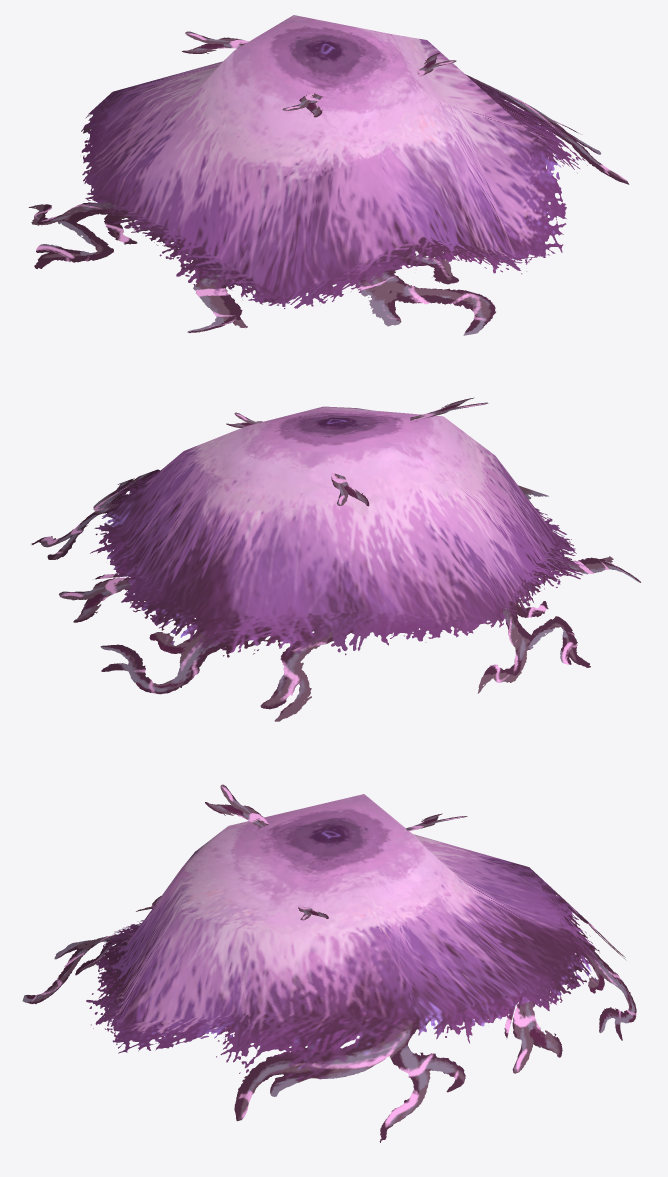
The model's file is bush1.fbx.
The picture shows the model from 3 angles, top to bottom: view 1: azimuth 30°, elevation 25°; view 2: azimuth 150°, elevation 25°; view 3: azimuth 270°, elevation 25°; orthographic projection.
Parts seen in each view (by area): view 1: Icosphere; view 2: Icosphere; view 3: Icosphere.
Boxes of the visible parts, x1,y1,x2,y2 form: Icosphere: (28,15,629,335); Icosphere: (31,397,640,721); Icosphere: (22,784,636,1142).
Size of the model in its own units: 995 by 310 by 942.
